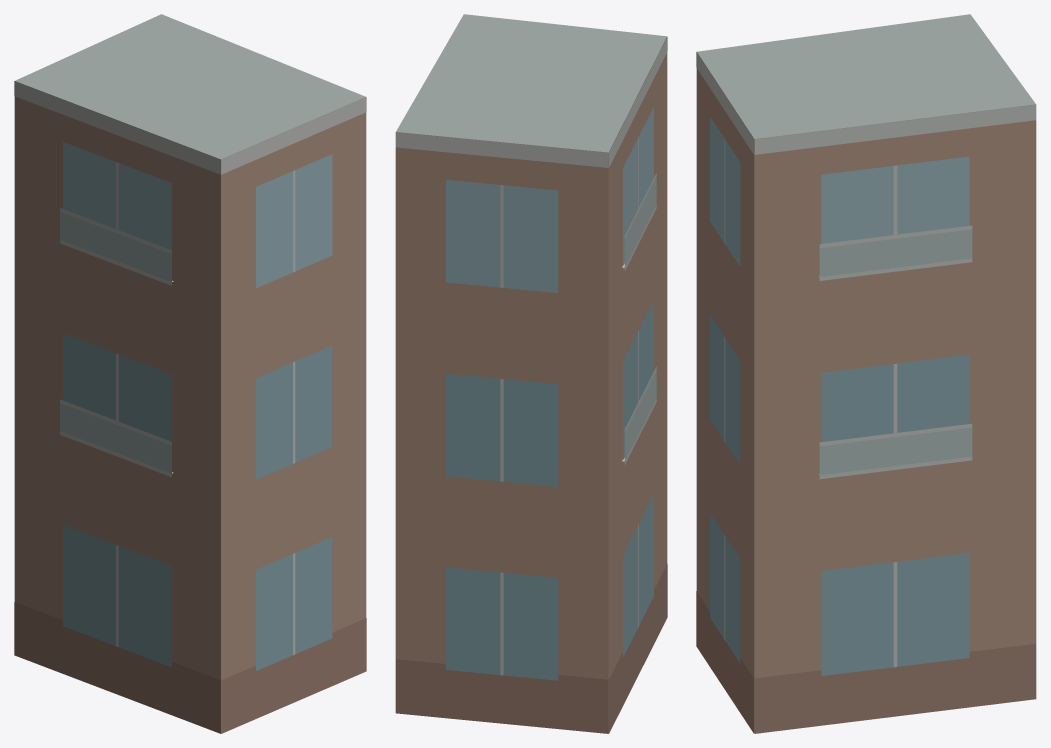
File: survey-upis-32783400.glb
3 renders of one model, left to right at view 1: azimuth 30°, elevation 25°; view 2: azimuth 150°, elevation 25°; view 3: azimuth 270°, elevation 25°, orthographic. The views are drawn at different scales.
Parts seen in each view (by area): view 1: survey-upis-32783400.tmp; view 2: survey-upis-32783400.tmp; view 3: survey-upis-32783400.tmp.
Boxes of the visible parts, bbox=[...] form: survey-upis-32783400.tmp: bbox=[14, 14, 366, 733]; survey-upis-32783400.tmp: bbox=[395, 14, 667, 733]; survey-upis-32783400.tmp: bbox=[696, 14, 1036, 733].
Size of the model in its own units: 4.14 by 9.15 by 4.75.
